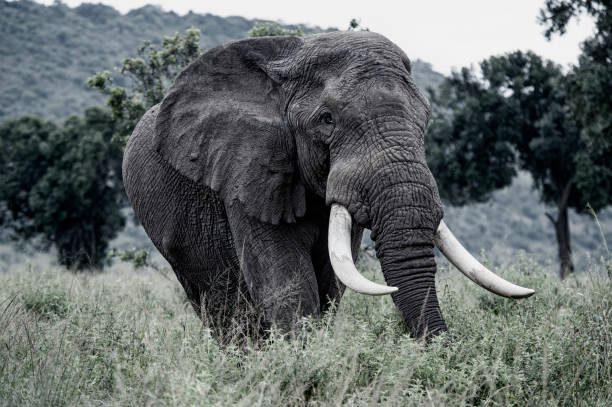africanelephant: (239, 37, 537, 308)
